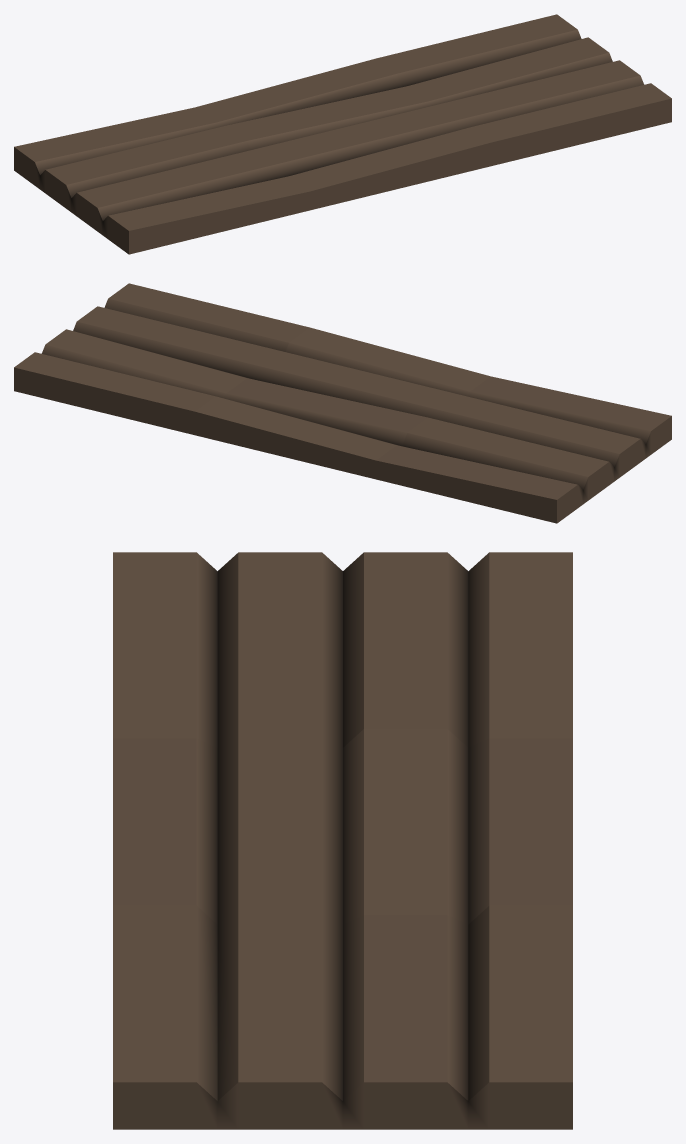
The model's file is Planks.fbx.
3 views of the same model, one above another, from view 1: azimuth 30°, elevation 25°; view 2: azimuth 150°, elevation 25°; view 3: azimuth 270°, elevation 25° (orthographic). The views are drawn at different scales.
Parts seen in each view (by area): view 1: Cube; view 2: Cube; view 3: Cube.
Boxes of the visible parts, x1,y1,x2,y2 form: Cube: (14, 14, 671, 254); Cube: (14, 283, 671, 523); Cube: (113, 552, 572, 1129).
Size of the model in its own units: 600 by 25 by 220.
